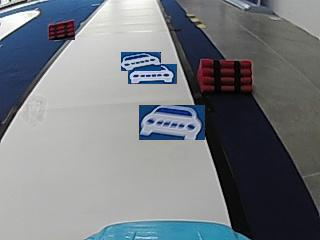bomb: (197, 60, 255, 92)
